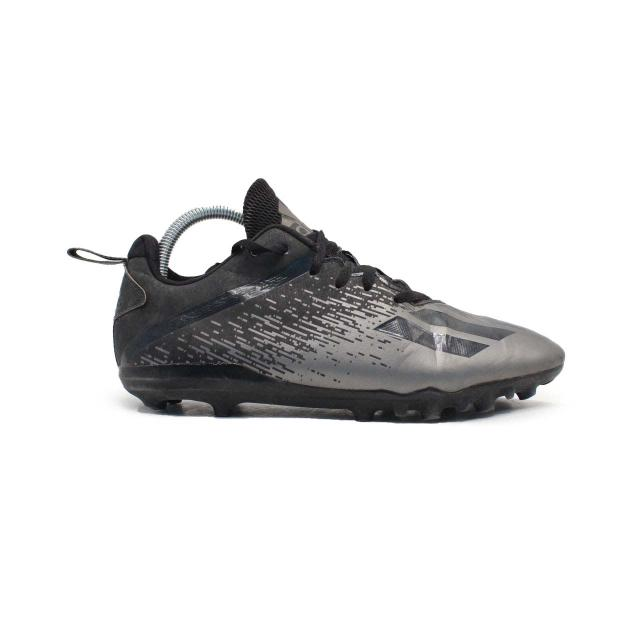heel: (71, 234, 156, 374)
midsole: (116, 366, 569, 425)
uppersole: (149, 177, 569, 394)
